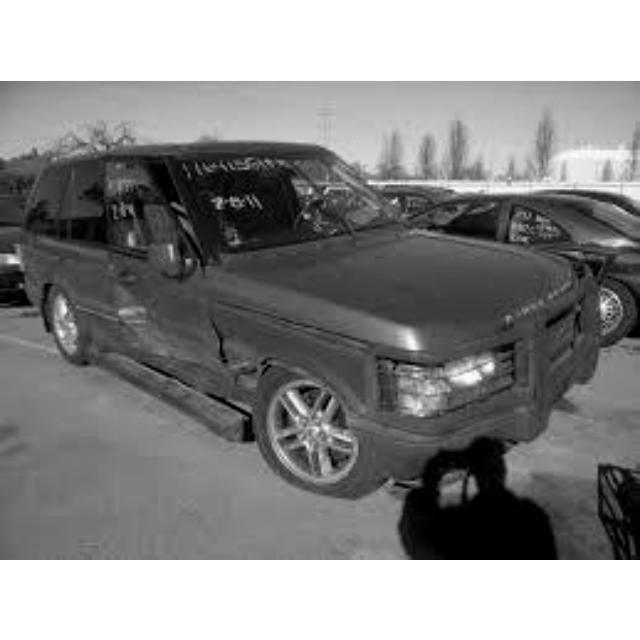doorouter-dent: (111, 259, 207, 362)
fender-dent: (203, 288, 301, 374)
